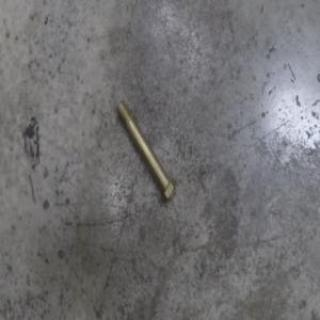Bolttrack_idkeyframe: (114, 98, 176, 204)
